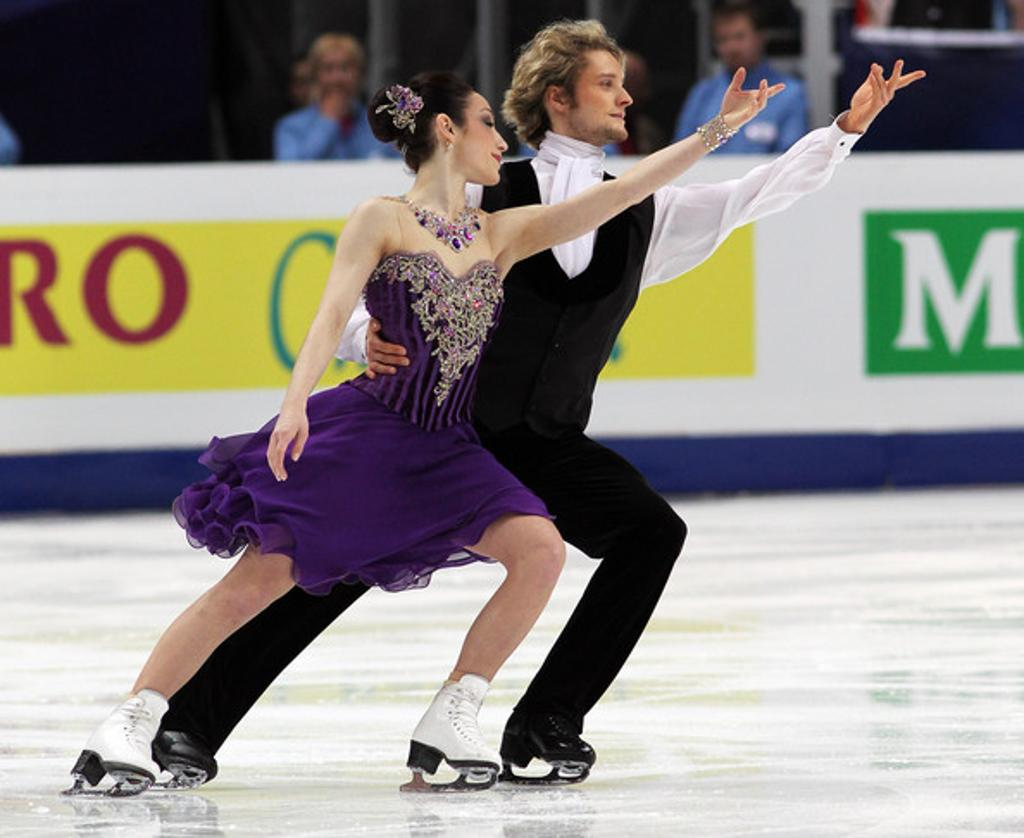face: (566, 44, 631, 143), (456, 90, 507, 185), (715, 16, 760, 66), (318, 47, 357, 95)
